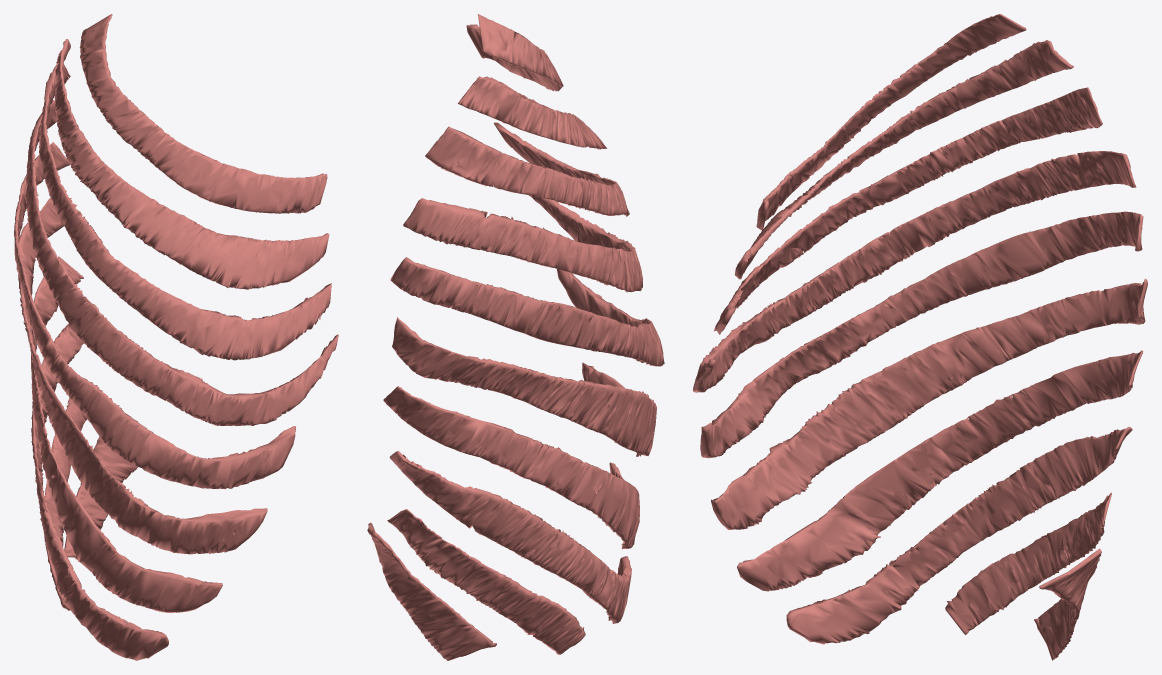
3 renders of one model, left to right at view 1: azimuth 30°, elevation 25°; view 2: azimuth 150°, elevation 25°; view 3: azimuth 270°, elevation 25°, orthographic. The views are drawn at different scales.
Visible parts, largest first — view 1: ZA_977add753a94e4d5; view 2: ZA_977add753a94e4d5; view 3: ZA_977add753a94e4d5.
Part boxes in pixels (left/top/right/bottom): ZA_977add753a94e4d5: left=14, top=14, right=338, bottom=660; ZA_977add753a94e4d5: left=367, top=14, right=664, bottom=660; ZA_977add753a94e4d5: left=693, top=14, right=1147, bottom=660.
Bounding box in the file's own units: 0.1256 × 0.33 × 0.2061.
